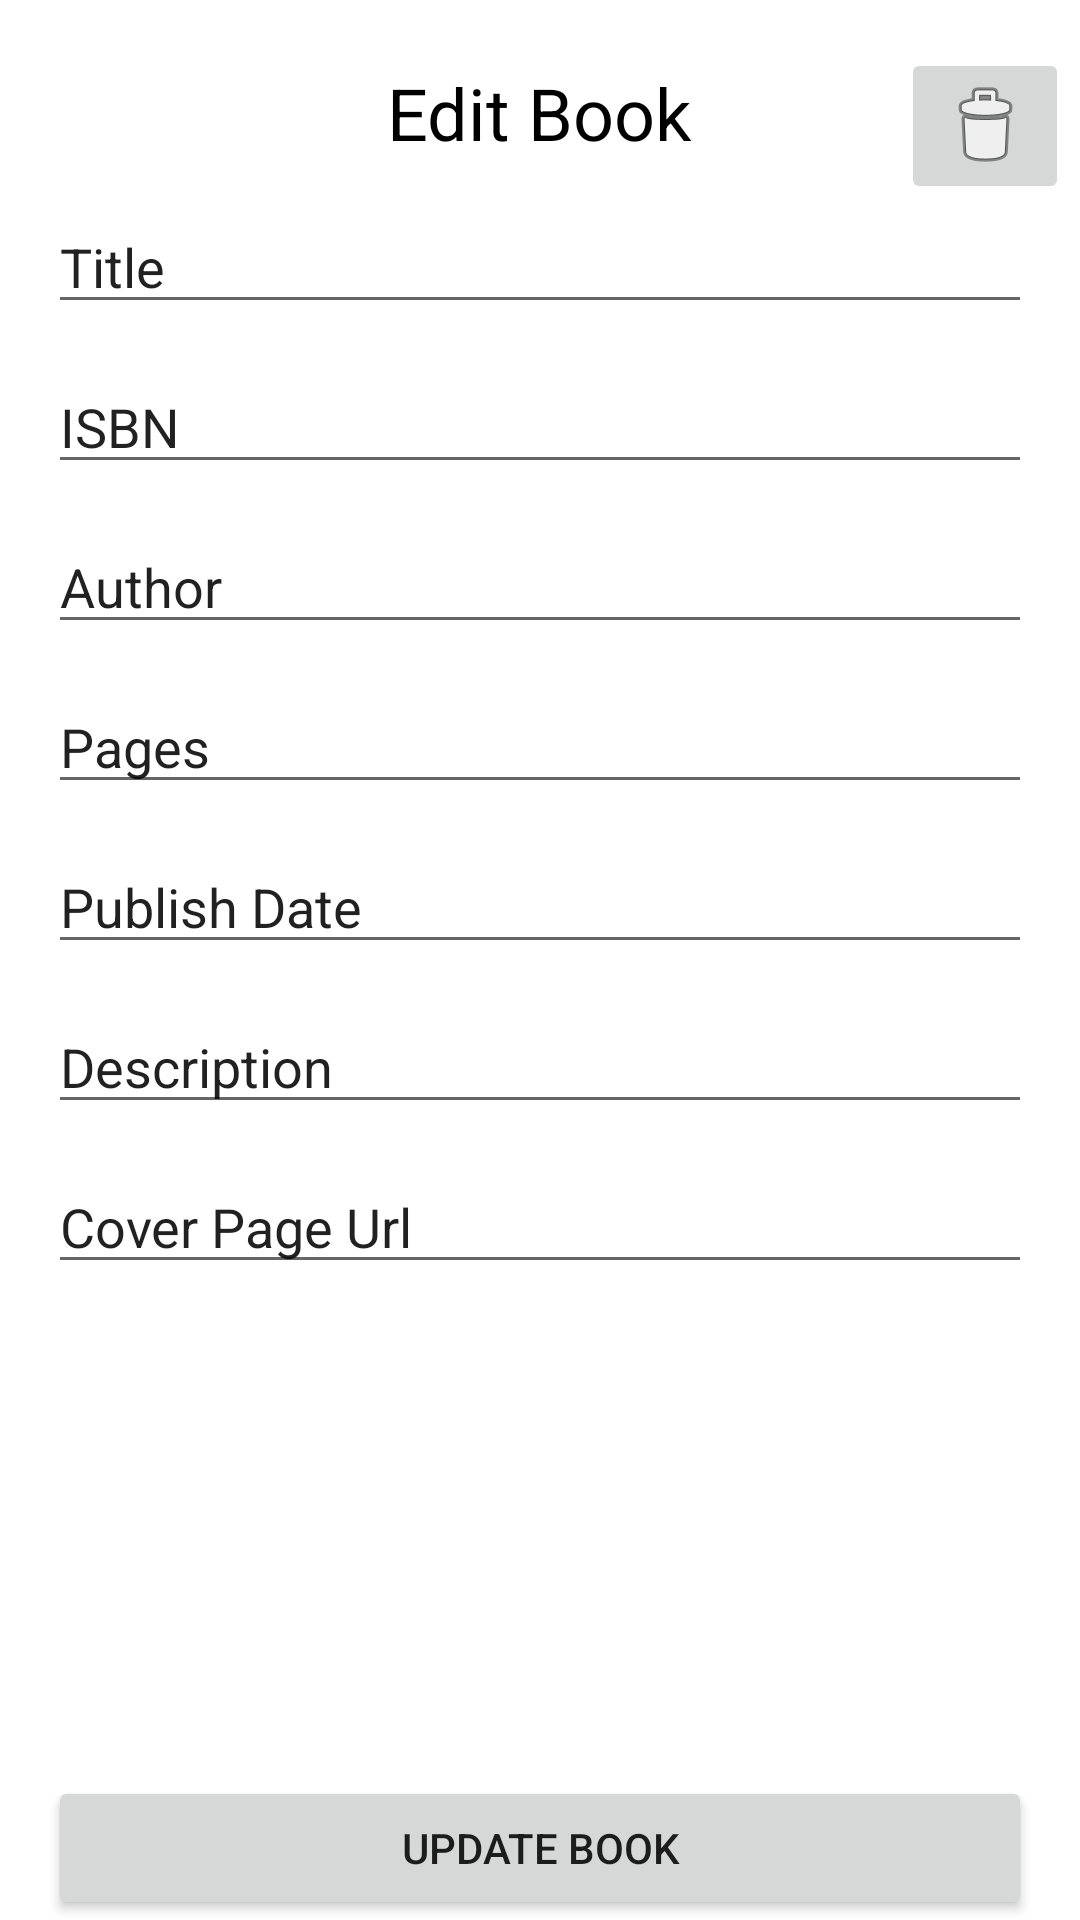

Icons on this 1080×1920 Android screen, each with the point to tap as [x,y]:
delete: [985,126]
